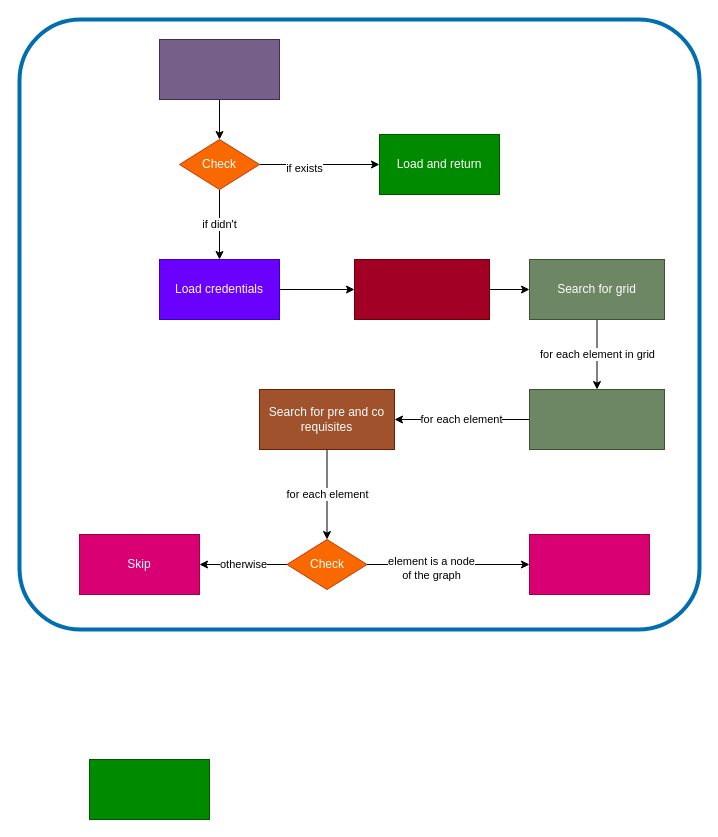
Image size: 718x837. Some labels were removed from this diagram. The centre of each missing label's shape, as x and y in pixels:
"Add in graph" goes at point 596,419.
"Check if exists in database" goes at point 219,69.
"Create edges" goes at point 589,564.
"Open college system" goes at point 422,289.
